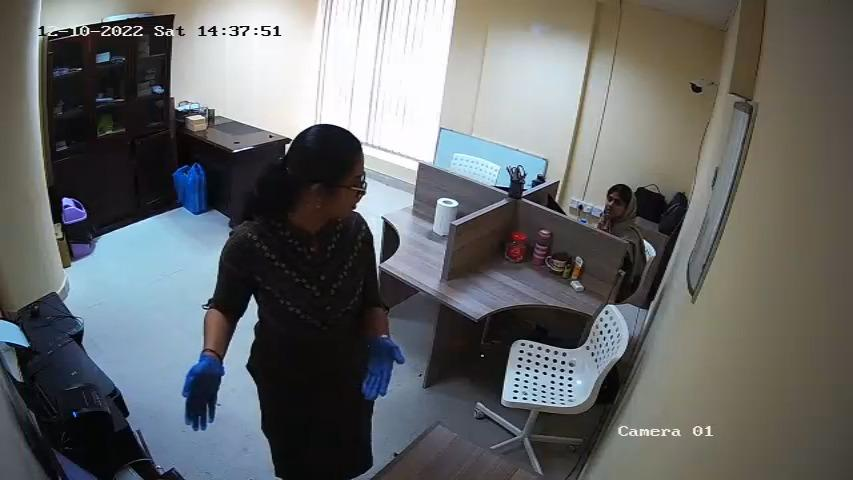gloves: (176, 347, 227, 437), (360, 329, 404, 403)
